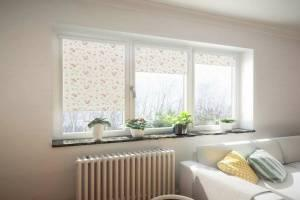window: (52, 26, 255, 141)
